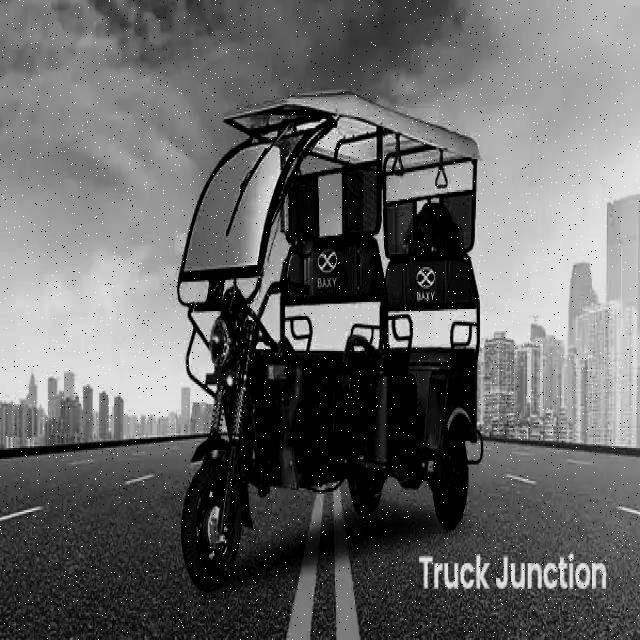Toto: (175, 91, 485, 591)
